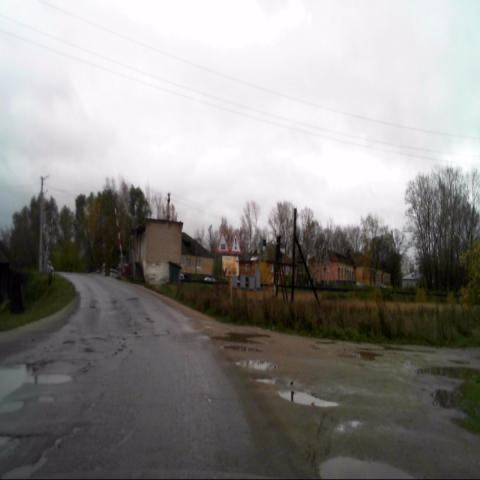1_1: (217, 230, 229, 253)
1_33: (230, 233, 241, 254)
